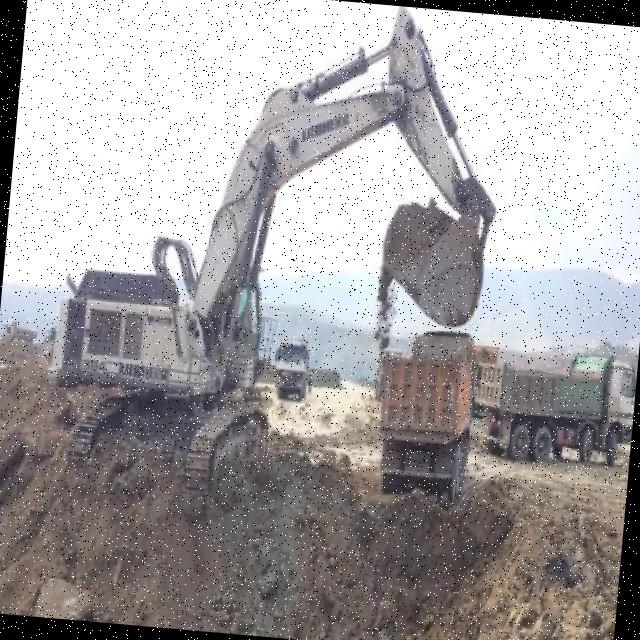Dump Truck: (472, 341, 638, 472), (370, 324, 480, 505), (270, 328, 318, 403)
Excavator: (26, 0, 516, 539)
